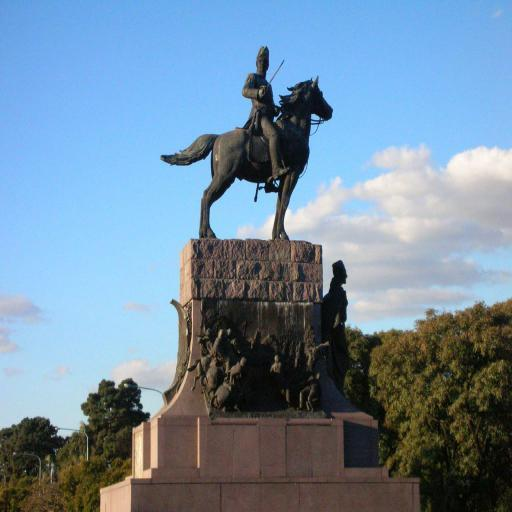horse: (158, 74, 334, 243)
